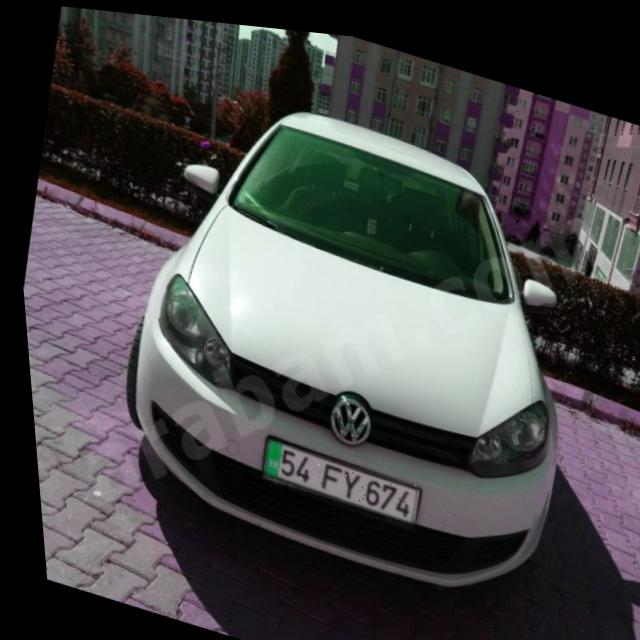license_plate: (252, 432, 414, 517)
